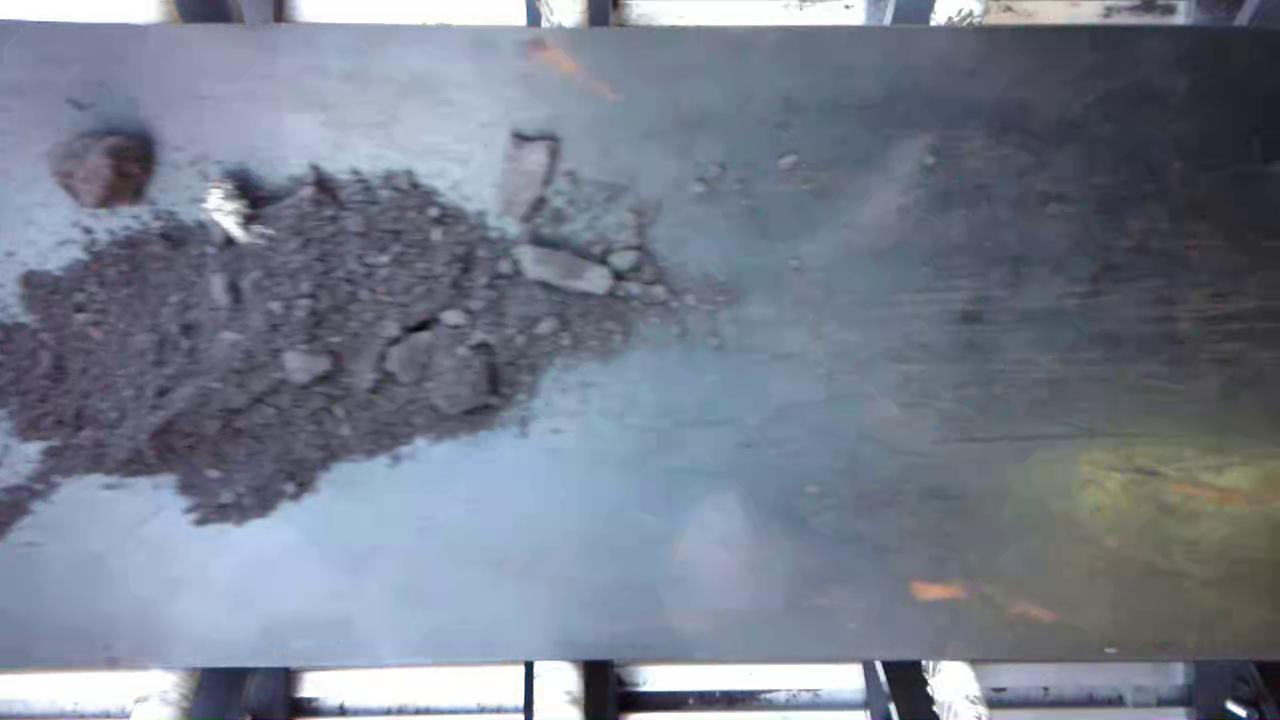conveyor: (6, 36, 1280, 655)
